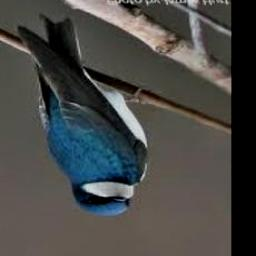Swallow: (14, 14, 149, 216)
